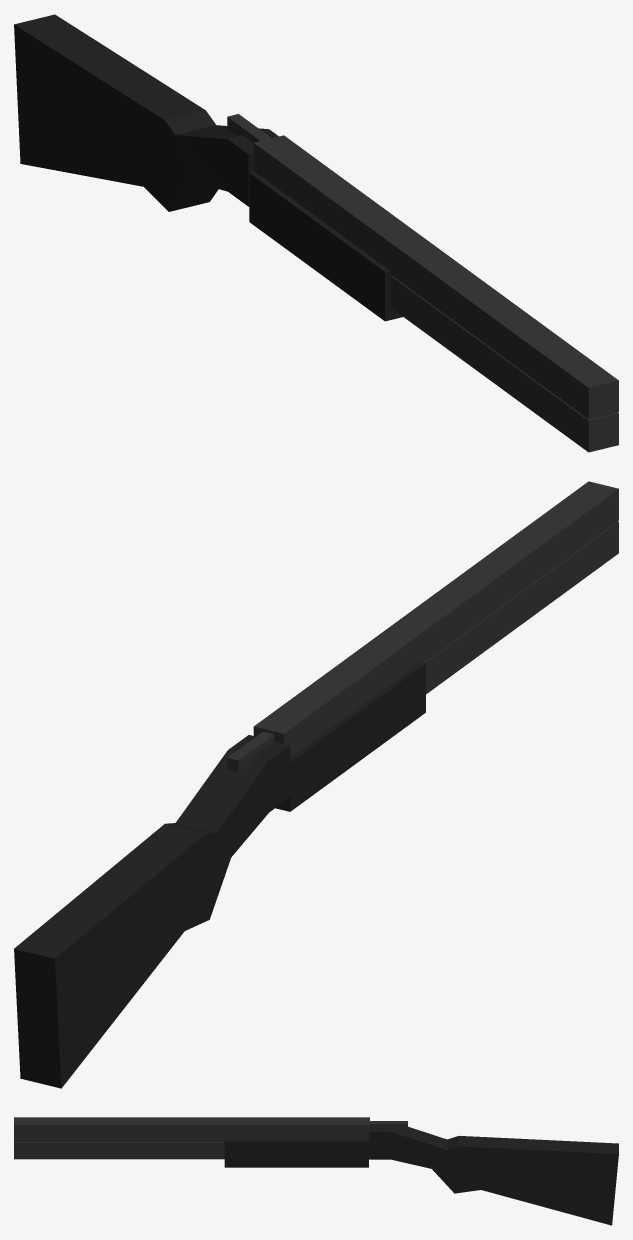
Rendered from HuntingSG.FBX.
3 renders of one model, top to bottom at view 1: azimuth 30°, elevation 25°; view 2: azimuth 150°, elevation 25°; view 3: azimuth 270°, elevation 25°, orthographic. The views are drawn at different scales.
Parts seen in each view (by area): view 1: HuntingSGbarrel, HuntingSG; view 2: HuntingSG, HuntingSGbarrel; view 3: HuntingSGbarrel, HuntingSG.
Part boxes in pixels (x1,y1,x2,y2): HuntingSGbarrel: (249, 135, 618, 452); HuntingSG: (14, 14, 278, 211); HuntingSG: (14, 731, 290, 1088); HuntingSGbarrel: (253, 481, 618, 811); HuntingSGbarrel: (14, 1117, 369, 1167); HuntingSG: (369, 1121, 618, 1225).
Size of the model in its own units: 9.6 by 229 by 41.38.
